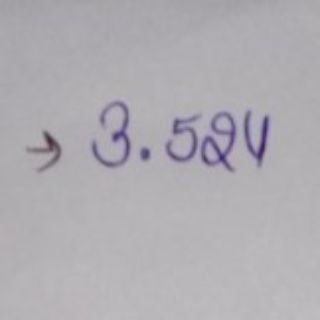.: (137, 144, 151, 163)
2: (201, 109, 238, 173)
3: (90, 98, 136, 170)
4: (241, 106, 271, 171)
5: (165, 111, 200, 165)
